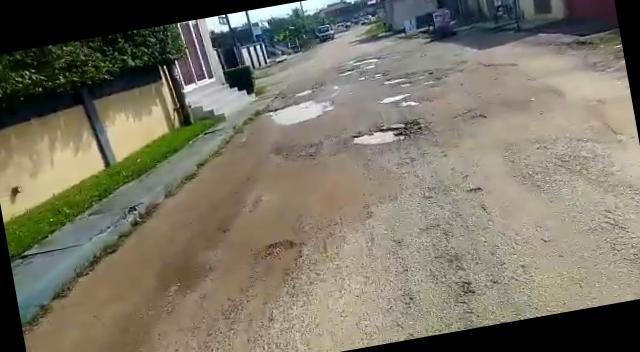pothole: (346, 116, 424, 150), (265, 95, 336, 128), (378, 91, 414, 106), (396, 95, 423, 110), (380, 76, 407, 86)
